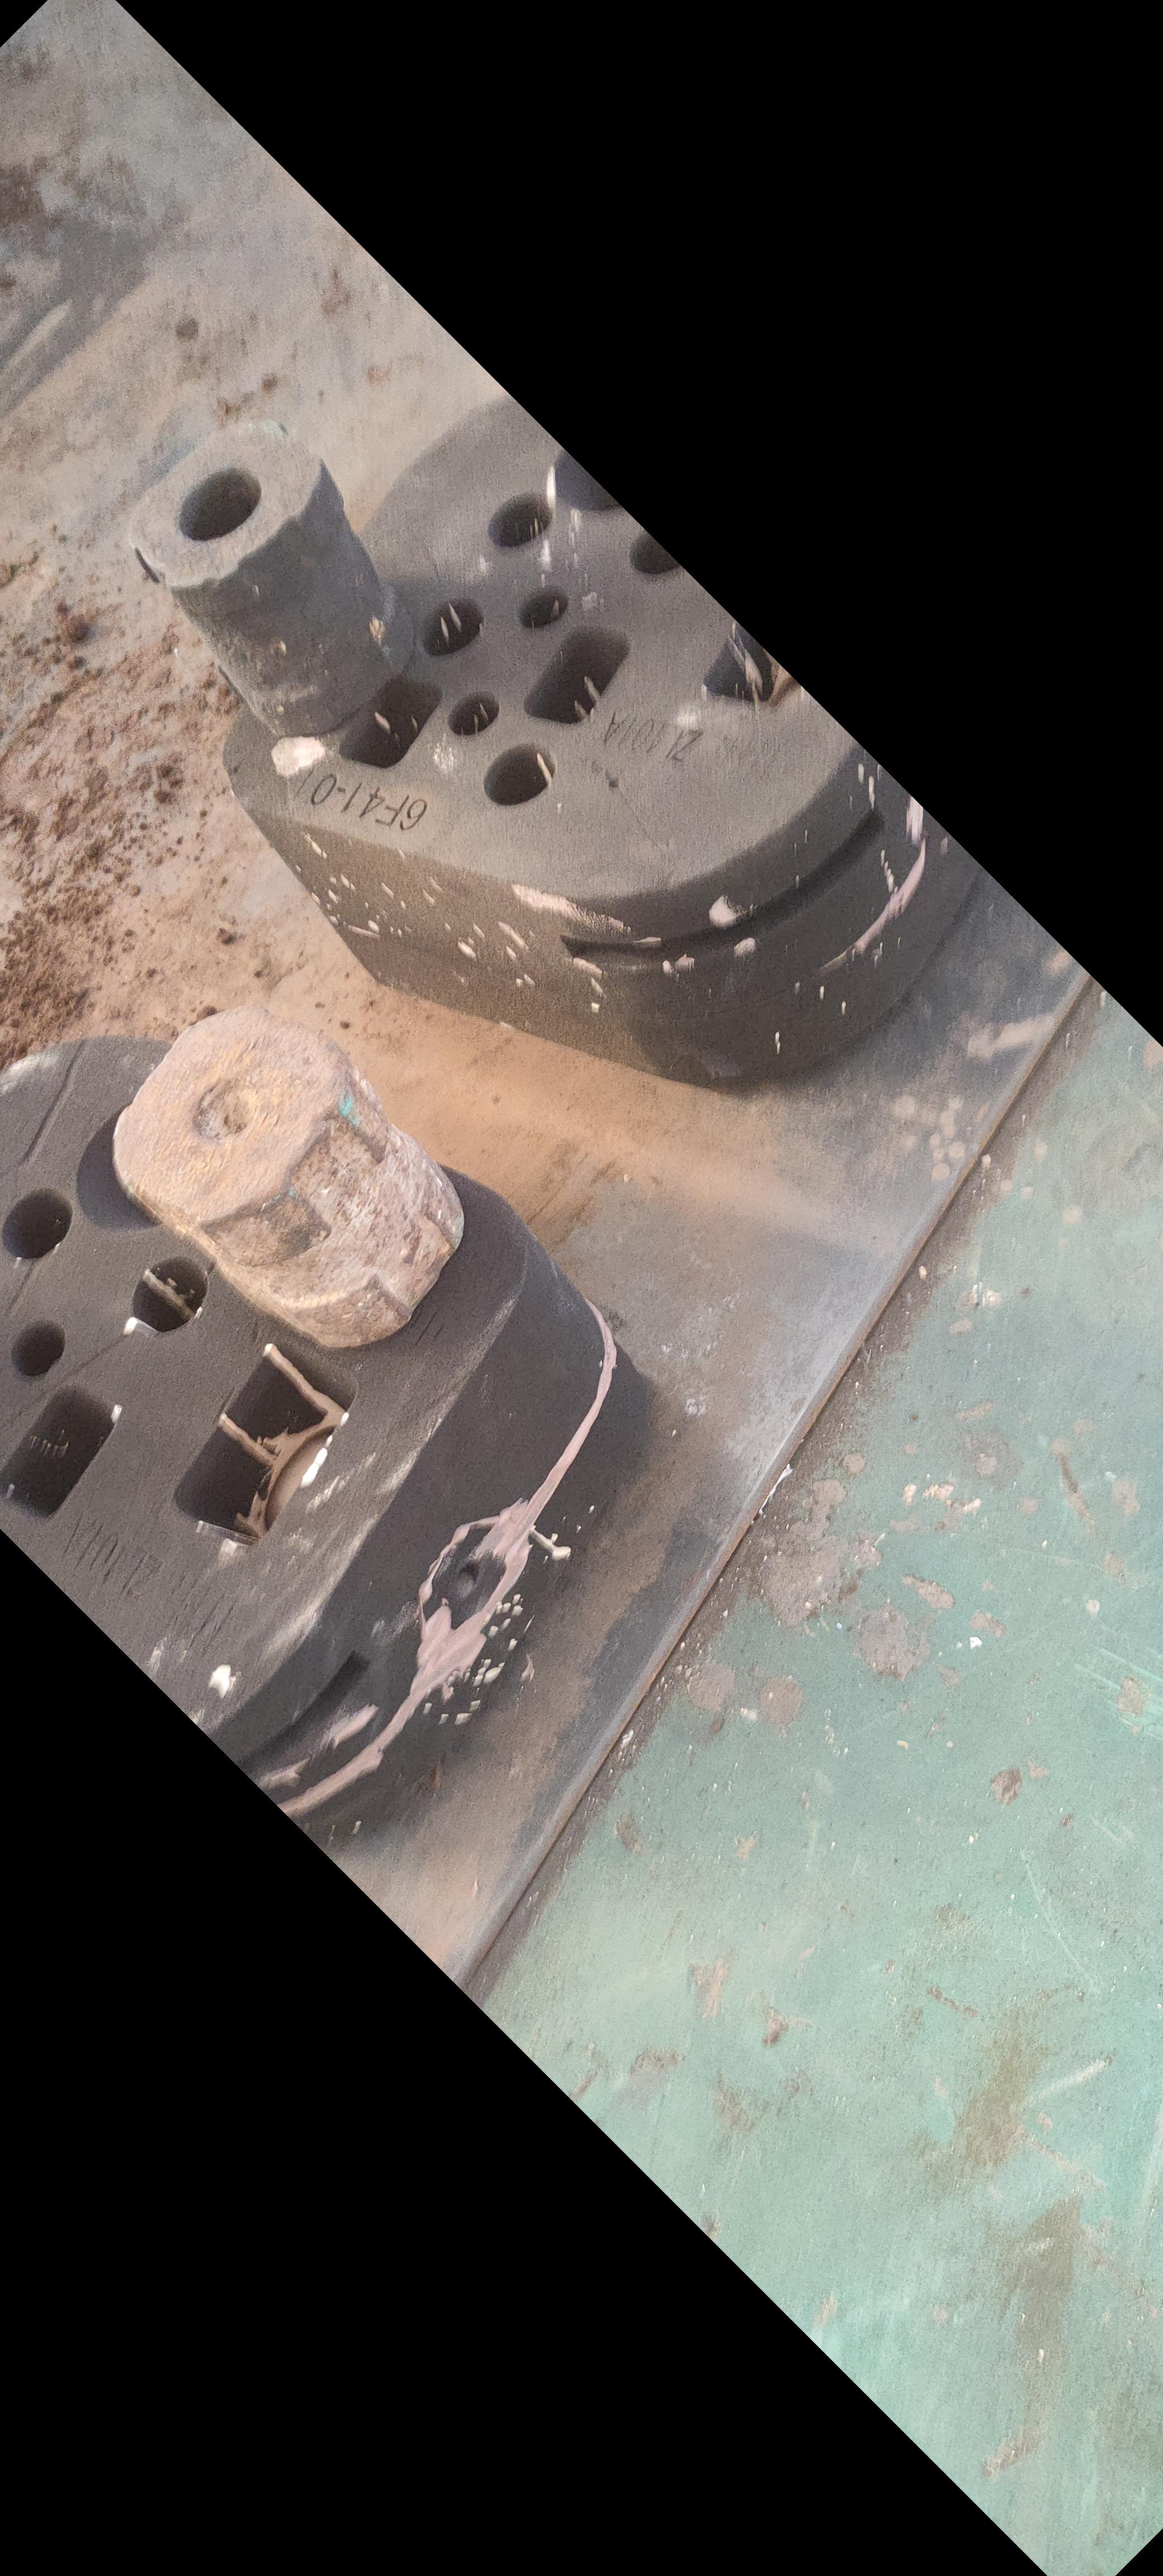pouring hole: (77, 1084, 207, 1234), (554, 421, 650, 513)
